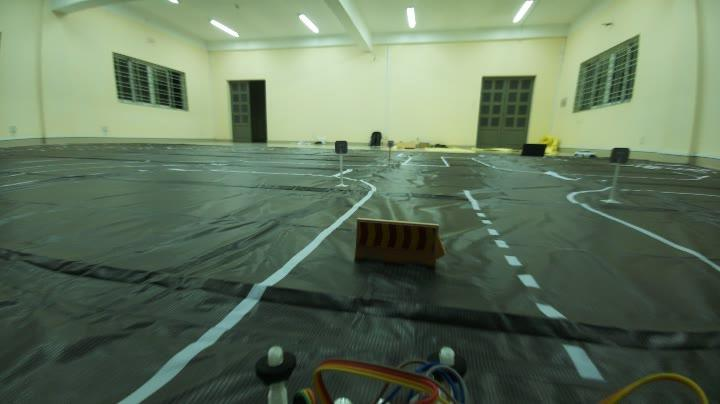roadblock: (351, 211, 458, 280)
